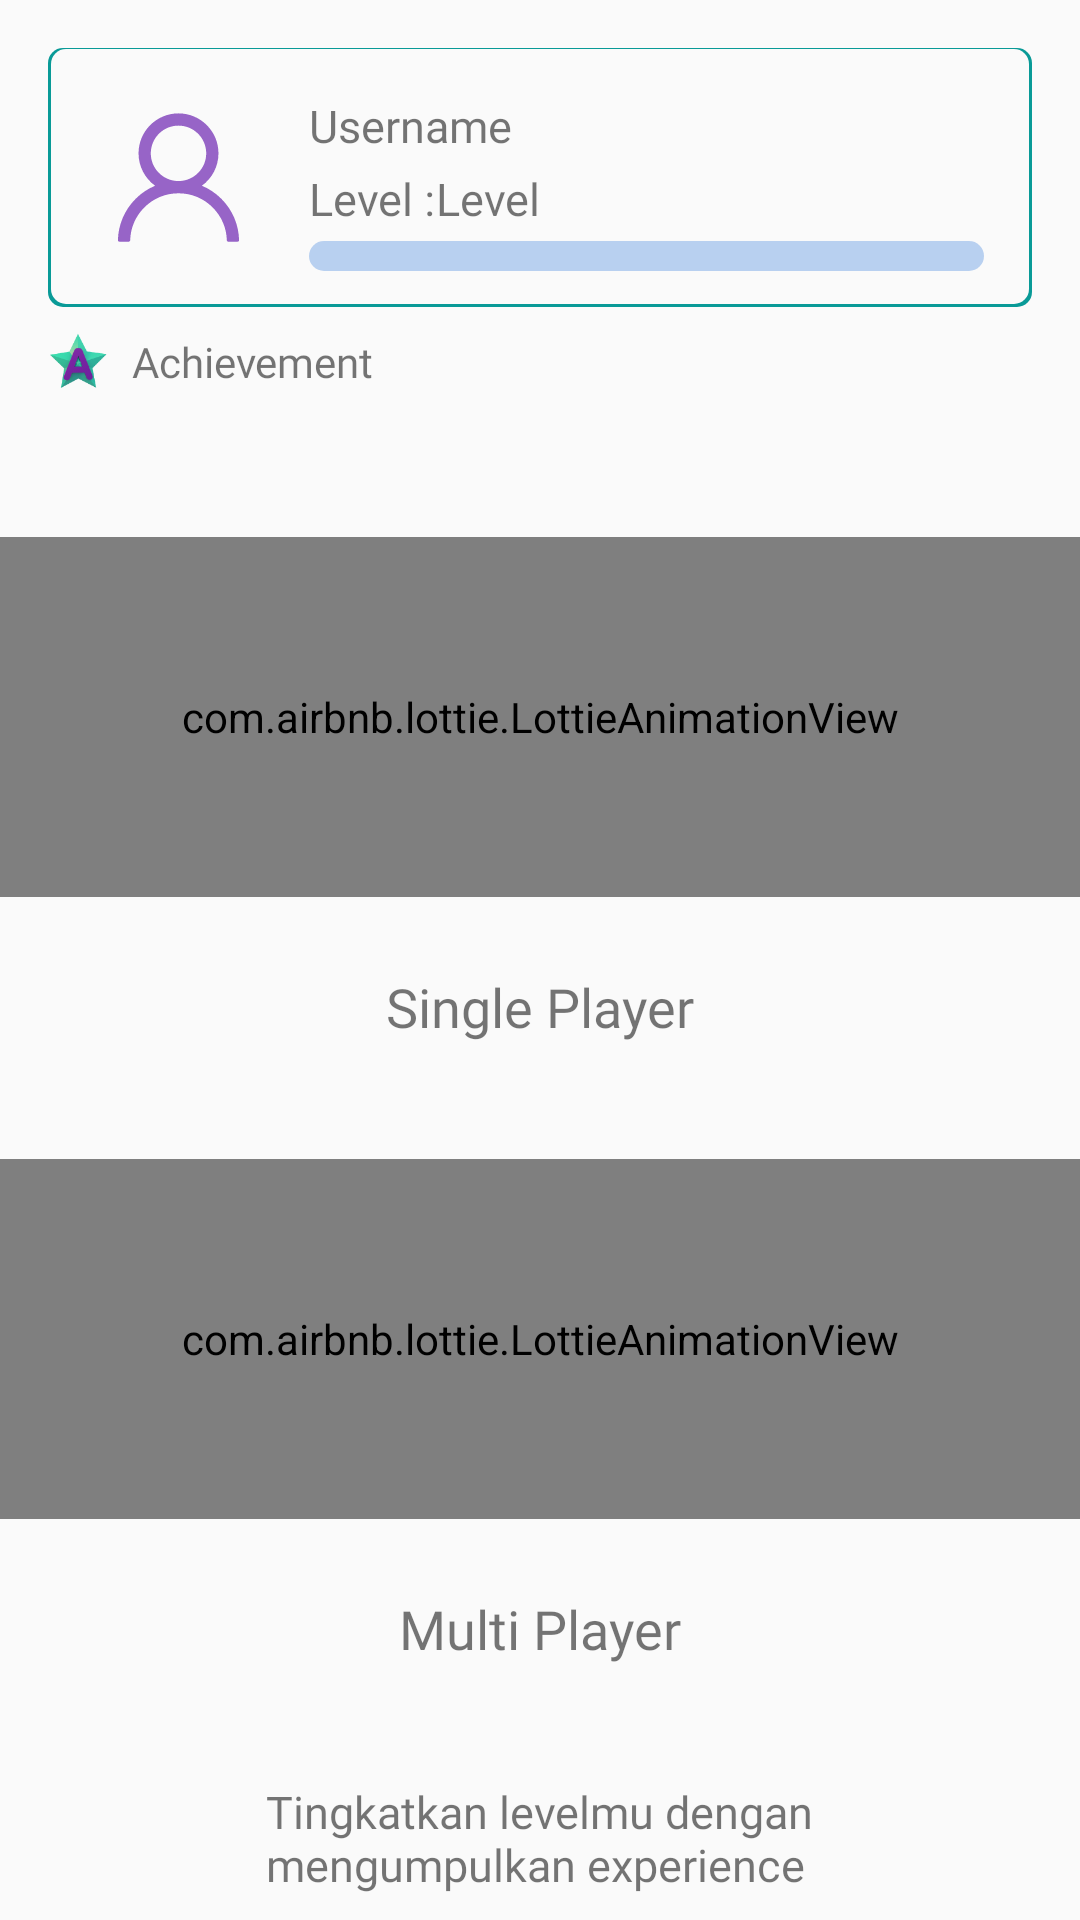

Where to tap for icons on this 1080*1920 app screen, as point (x, y):
Profile Picture: point (178, 177)
